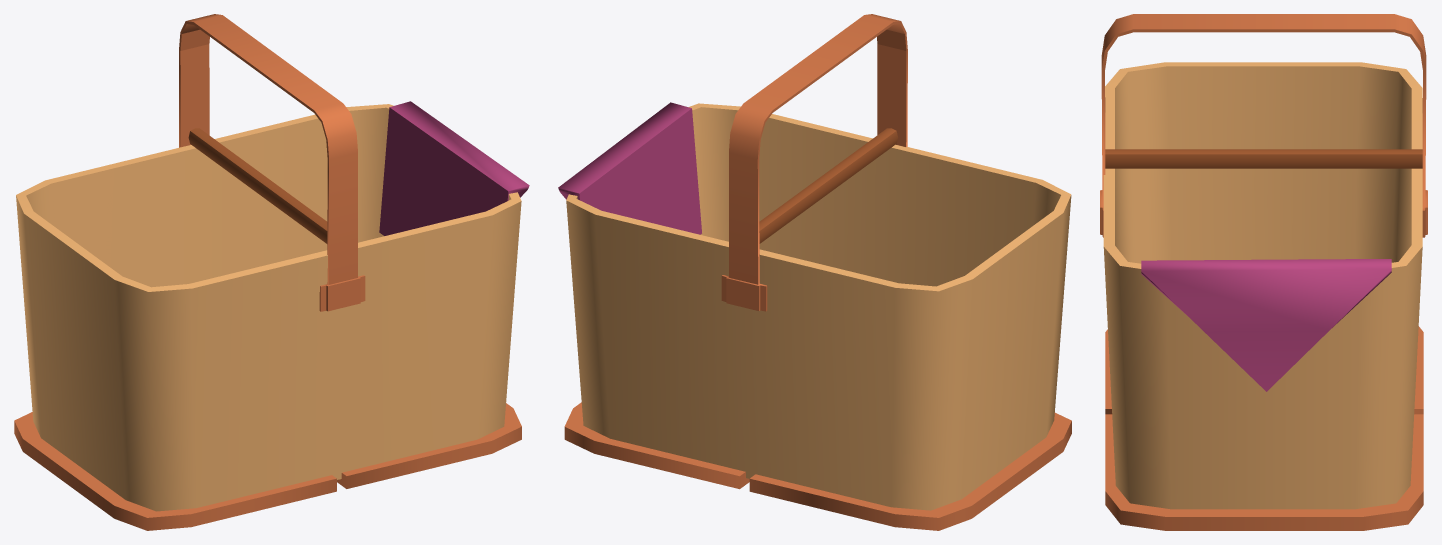
Rendered from Basket.obj.
The picture shows the model from 3 angles, left to right: view 1: azimuth 30°, elevation 25°; view 2: azimuth 150°, elevation 25°; view 3: azimuth 270°, elevation 25°; orthographic projection. The views are drawn at different scales.
Parts seen in each view (by area): view 1: Basket_Basket, Basket_Lid1_Basket_Lid1, Basket_Lid2_Basket_Lid2; view 2: Basket_Basket, Basket_Lid1_Basket_Lid1, Basket_Lid2_Basket_Lid2; view 3: Basket_Basket, Basket_Lid2_Basket_Lid2, Basket_Lid1_Basket_Lid1.
Part boxes in pixels (left/top/right/bottom): Basket_Basket: left=16, top=14, right=529, bottom=511; Basket_Lid1_Basket_Lid1: left=14, top=412, right=336, bottom=530; Basket_Lid2_Basket_Lid2: left=337, top=403, right=521, bottom=488; Basket_Basket: left=558, top=14, right=1071, bottom=510; Basket_Lid1_Basket_Lid1: left=749, top=412, right=1071, bottom=530; Basket_Lid2_Basket_Lid2: left=564, top=402, right=749, bottom=489; Basket_Basket: left=1100, top=14, right=1427, bottom=509; Basket_Lid2_Basket_Lid2: left=1105, top=414, right=1423, bottom=530; Basket_Lid1_Basket_Lid1: left=1105, top=326, right=1423, bottom=414.
Size of the model in its own units: 0.698 by 0.6067 by 0.4461.
